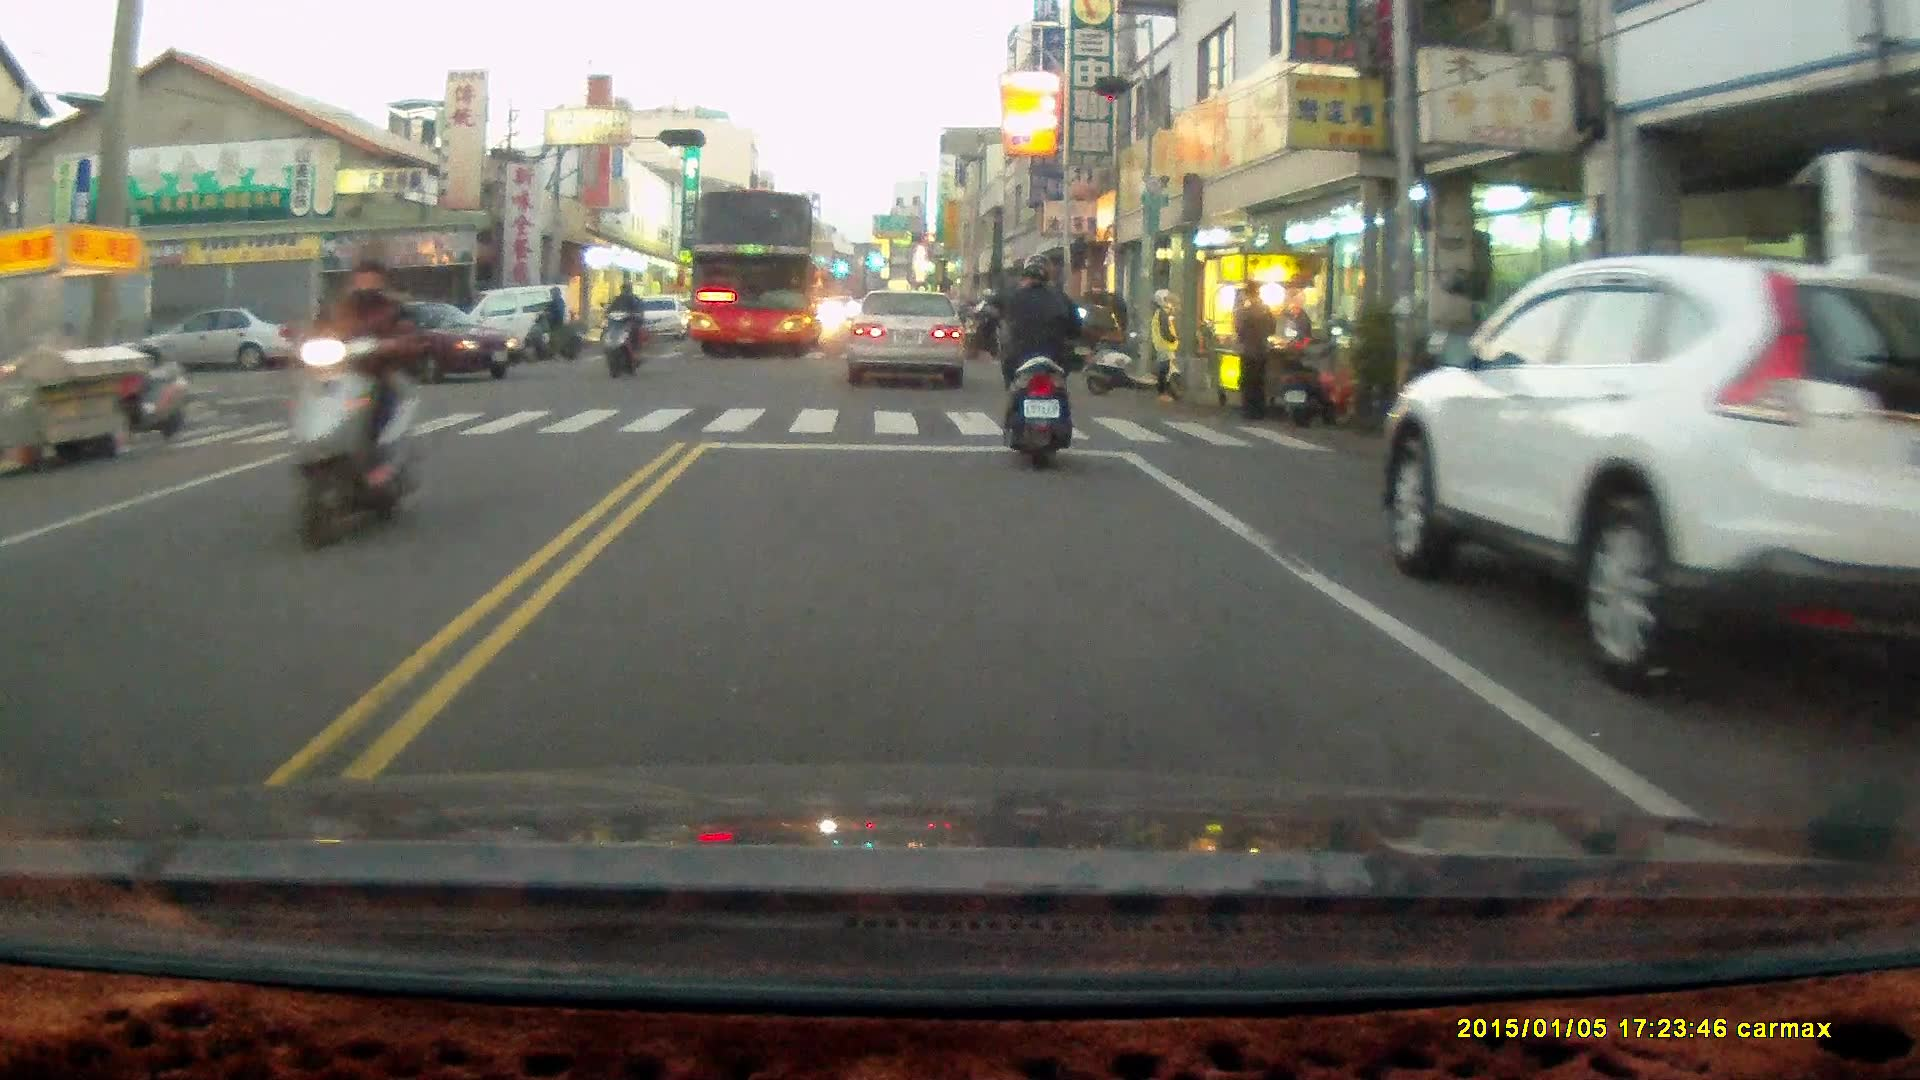pedestrian: (1233, 280, 1274, 425), (1145, 286, 1182, 406), (309, 295, 334, 368)
rider: (272, 233, 426, 554), (988, 253, 1087, 470), (519, 284, 581, 363), (599, 279, 643, 375), (961, 285, 1014, 364)
vehicle: (1379, 252, 1913, 703), (683, 193, 826, 367), (323, 300, 516, 385), (439, 281, 583, 374), (847, 288, 970, 391), (126, 311, 293, 377)
